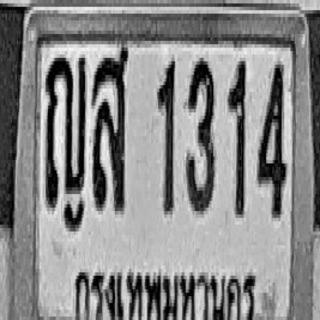A13: (45, 53, 86, 209)
A40: (92, 43, 128, 209)
N01: (227, 60, 246, 216), (157, 56, 175, 213)
N03: (186, 56, 215, 213)
N04: (257, 60, 286, 216)
P04: (73, 252, 260, 320)
